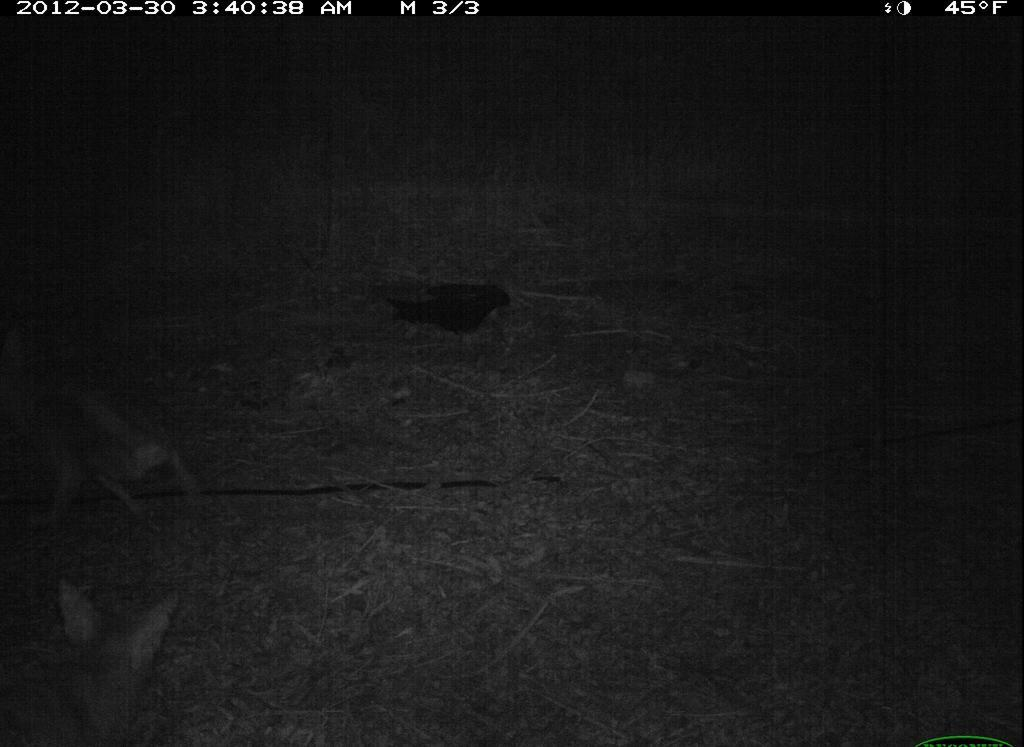coyote: (2, 349, 217, 537), (4, 577, 225, 747)
